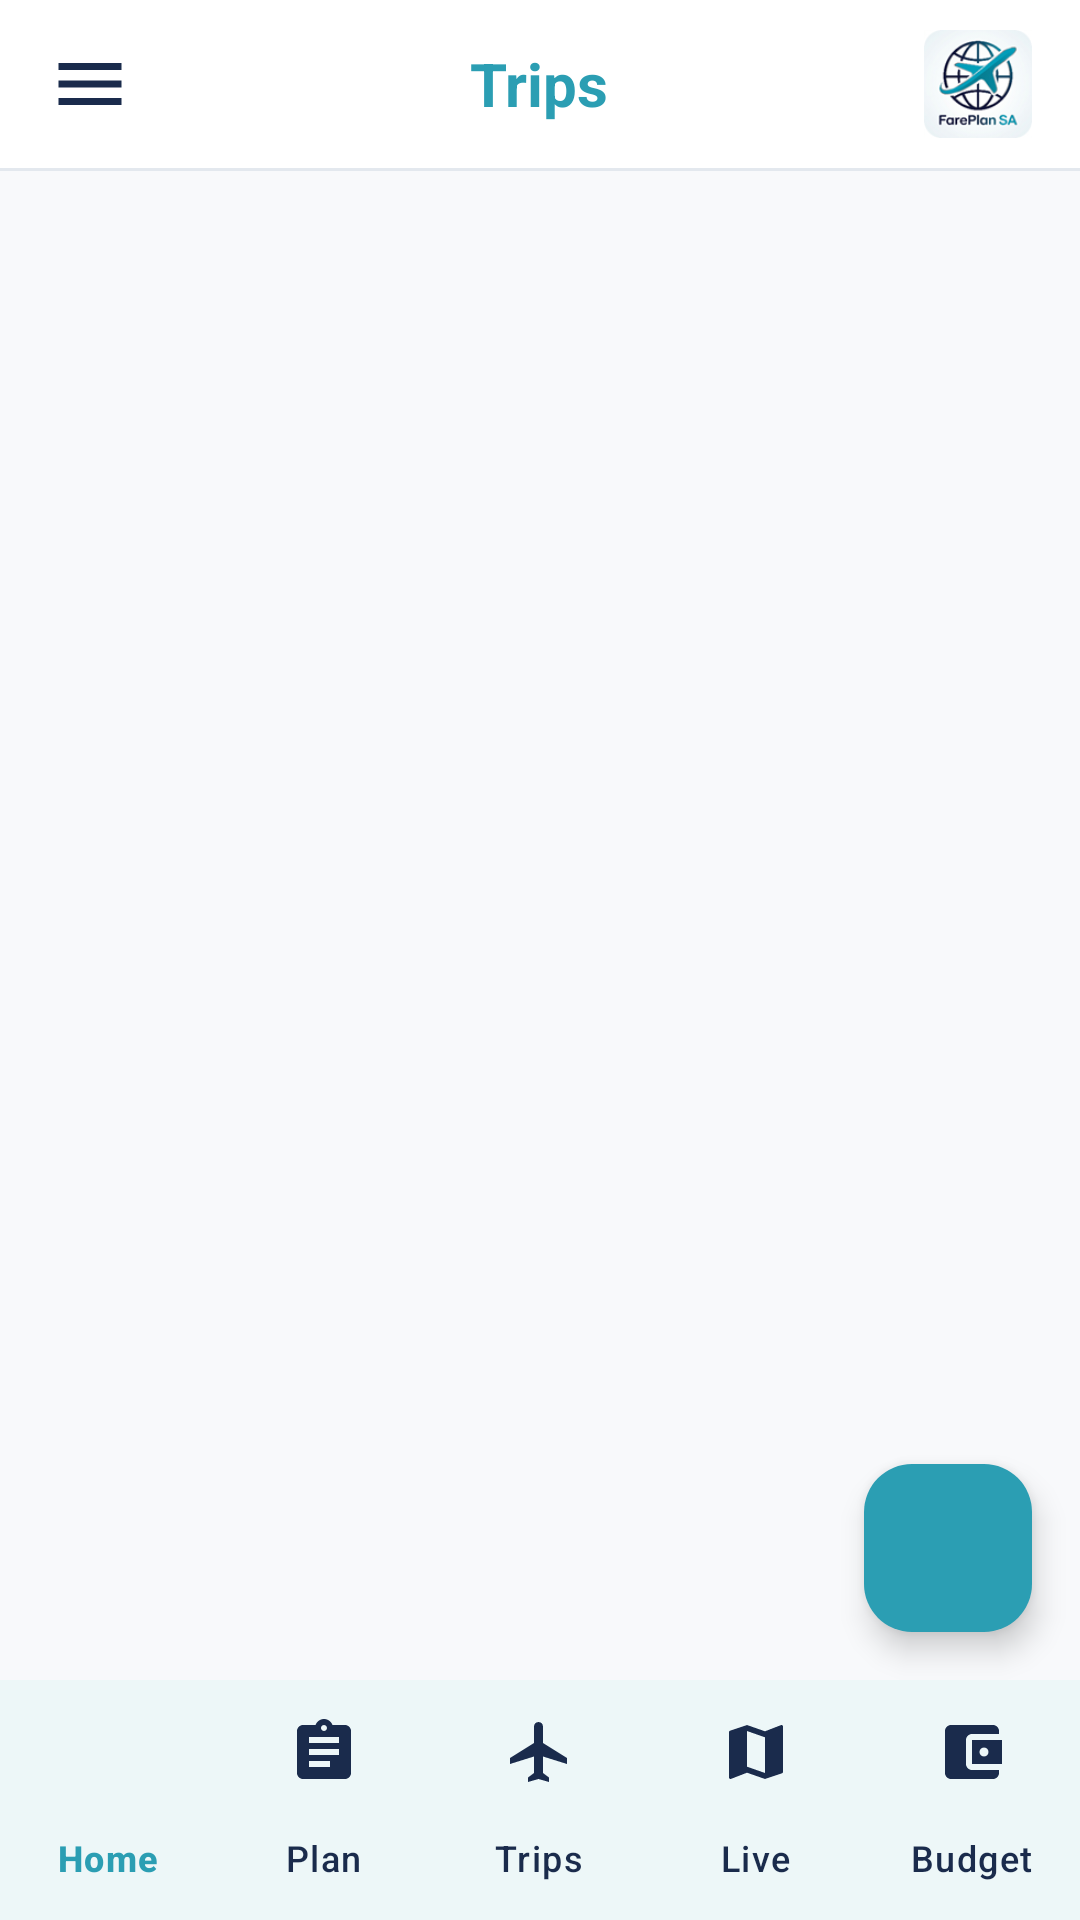

Screen size 1080x1920. Icon name, then its box in pixels as bbox=(x1, y1, x2, y2):
Menu: bbox=(58, 63, 122, 105)
